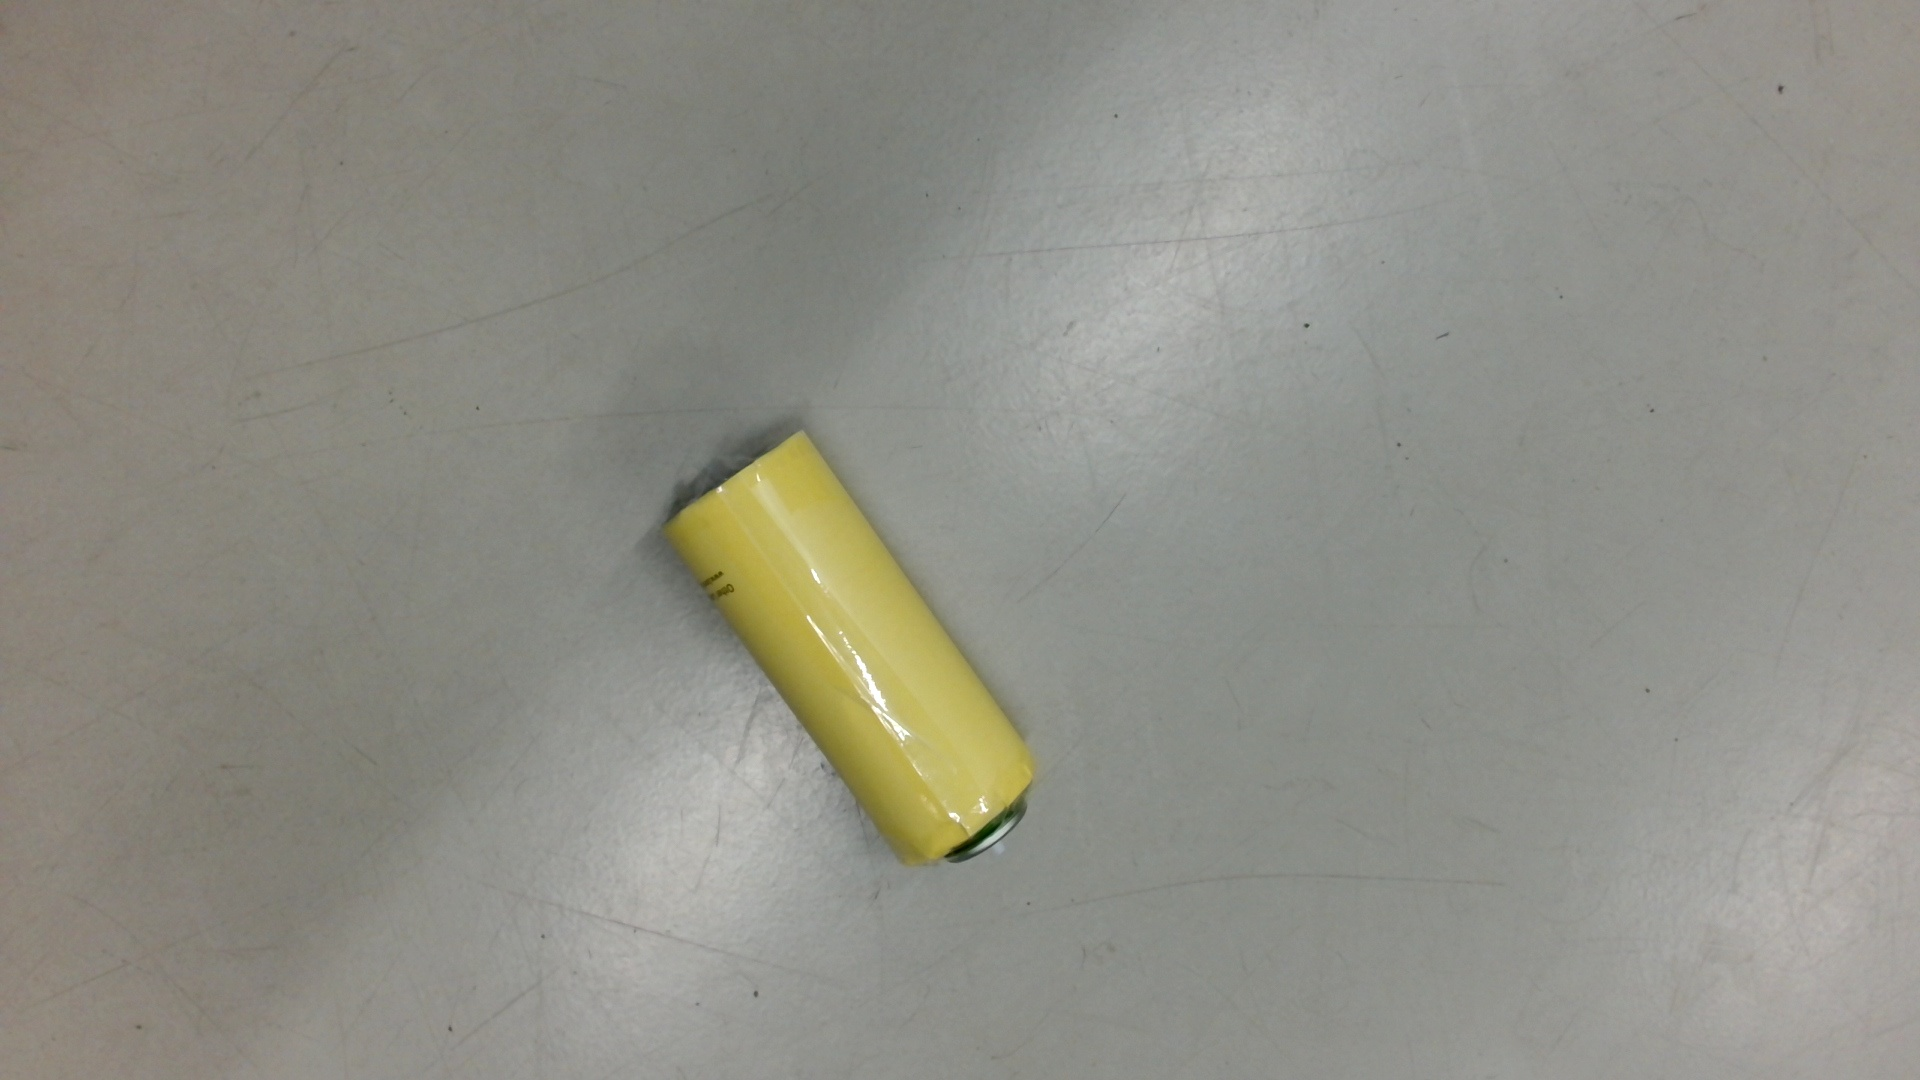Cylinder: (651, 419, 1048, 884)
